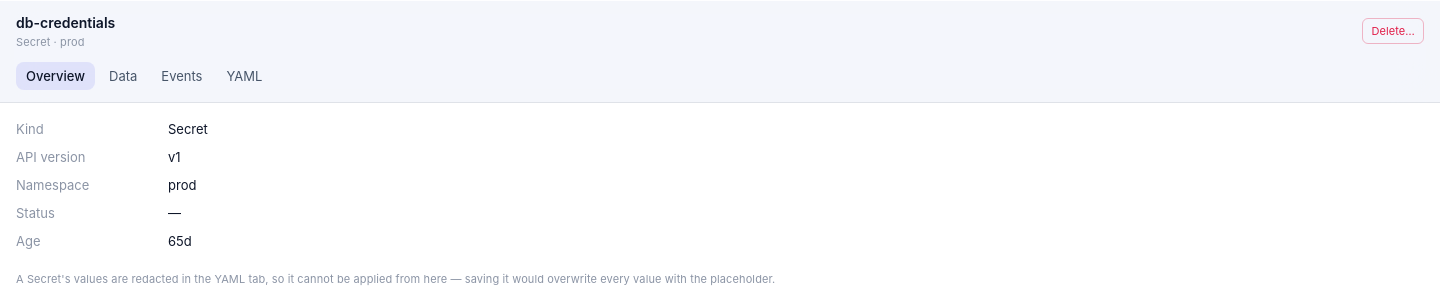
Test case: ObjectDetail › gives a Secret its own Data tab
Check: the text "Secret" is shown, box [168, 119, 208, 139]
Step 1. Click the button "Data" → (123, 76), box [99, 62, 147, 90]
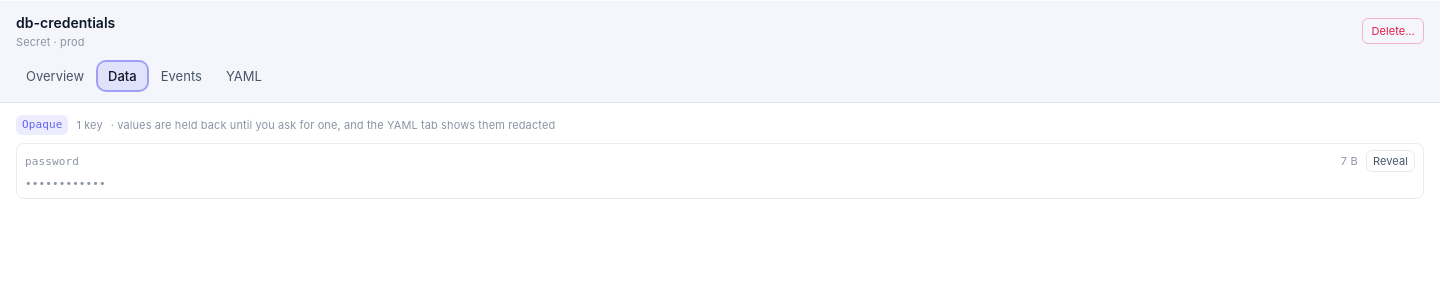
Check: the text "password" is shown, box [25, 154, 79, 170]
